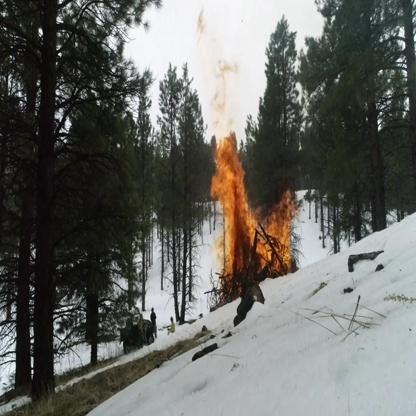Fire: (212, 66, 252, 296), (254, 190, 300, 278)
